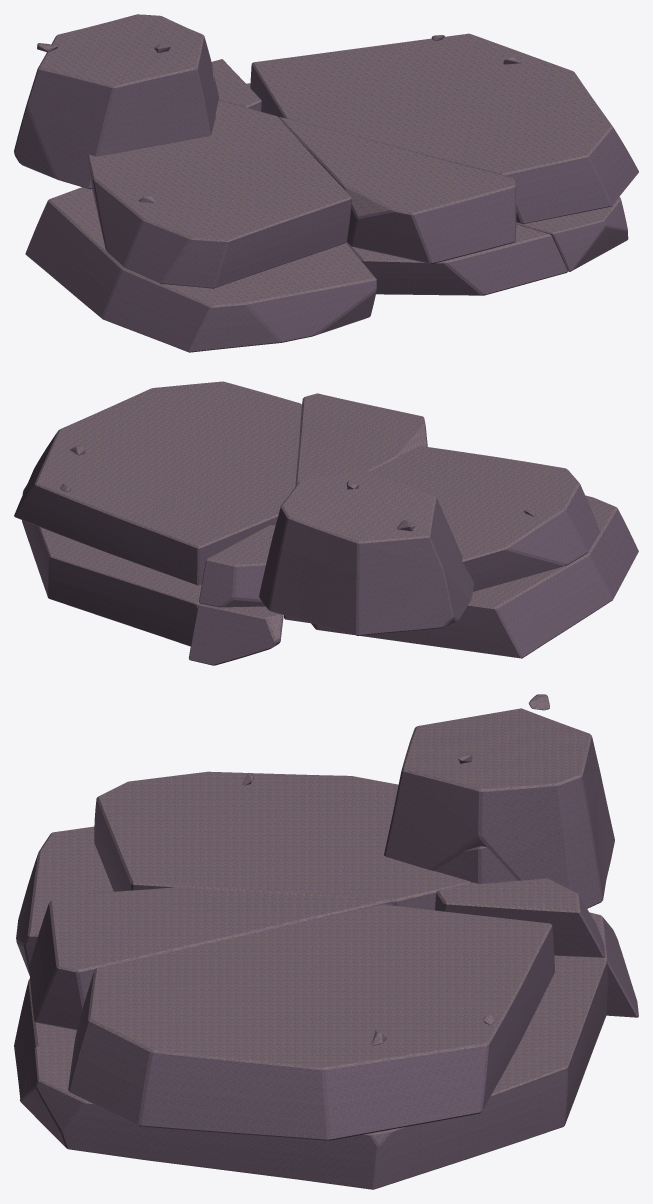
File: A04_Summit.fbx
3 views of the same model, one above another, from view 1: azimuth 30°, elevation 25°; view 2: azimuth 150°, elevation 25°; view 3: azimuth 270°, elevation 25° (orthographic). The views are drawn at different scales.
Parts seen in each view (by area): view 1: A04_plateau_7, A04_plateau_1, A04_plateau_0, A04_step_0, A04_plateau_5, A04_plateau_4, A04_plateau_6, A04_plateau_3; view 2: A04_plateau_7, A04_step_0, A04_plateau_1, A04_plateau_0, A04_plateau_6, A04_plateau_5, A04_plateau_2, A04_plateau_3; view 3: A04_plateau_7, A04_plateau_1, A04_plateau_6, A04_step_0, A04_plateau_5, A04_plateau_3, A04_plateau_0, A04_plateau_2, A04_plateau_4, A04_step_1.
Boxes of the visible parts, <box> form: A04_plateau_7: <box>250,33,638,223</box>; A04_plateau_1: <box>87,100,352,288</box>; A04_plateau_0: <box>25,187,376,352</box>; A04_step_0: <box>14,14,215,189</box>; A04_plateau_5: <box>278,117,516,264</box>; A04_plateau_4: <box>346,224,567,295</box>; A04_plateau_6: <box>246,83,628,271</box>; A04_plateau_3: <box>211,59,261,111</box>; A04_plateau_7: <box>14,381,301,585</box>; A04_step_0: <box>259,470,474,635</box>; A04_plateau_1: <box>284,446,599,623</box>; A04_plateau_0: <box>311,495,638,658</box>; A04_plateau_6: <box>22,485,201,646</box>; A04_plateau_5: <box>295,393,427,486</box>; A04_plateau_2: <box>189,603,283,665</box>; A04_plateau_3: <box>199,525,275,607</box>; A04_plateau_7: <box>68,904,554,1140</box>; A04_plateau_1: <box>94,771,471,910</box>; A04_plateau_6: <box>20,956,607,1189</box>; A04_step_0: <box>384,708,614,908</box>; A04_plateau_5: <box>29,887,393,1030</box>; A04_plateau_3: <box>435,878,605,957</box>; A04_plateau_0: <box>16,826,113,974</box>; A04_plateau_2: <box>554,912,638,1017</box>; A04_plateau_4: <box>14,978,76,1097</box>; A04_step_1: <box>435,846,517,883</box>.
Size of the model in its own units: 23.78 by 6.66 by 18.47.
